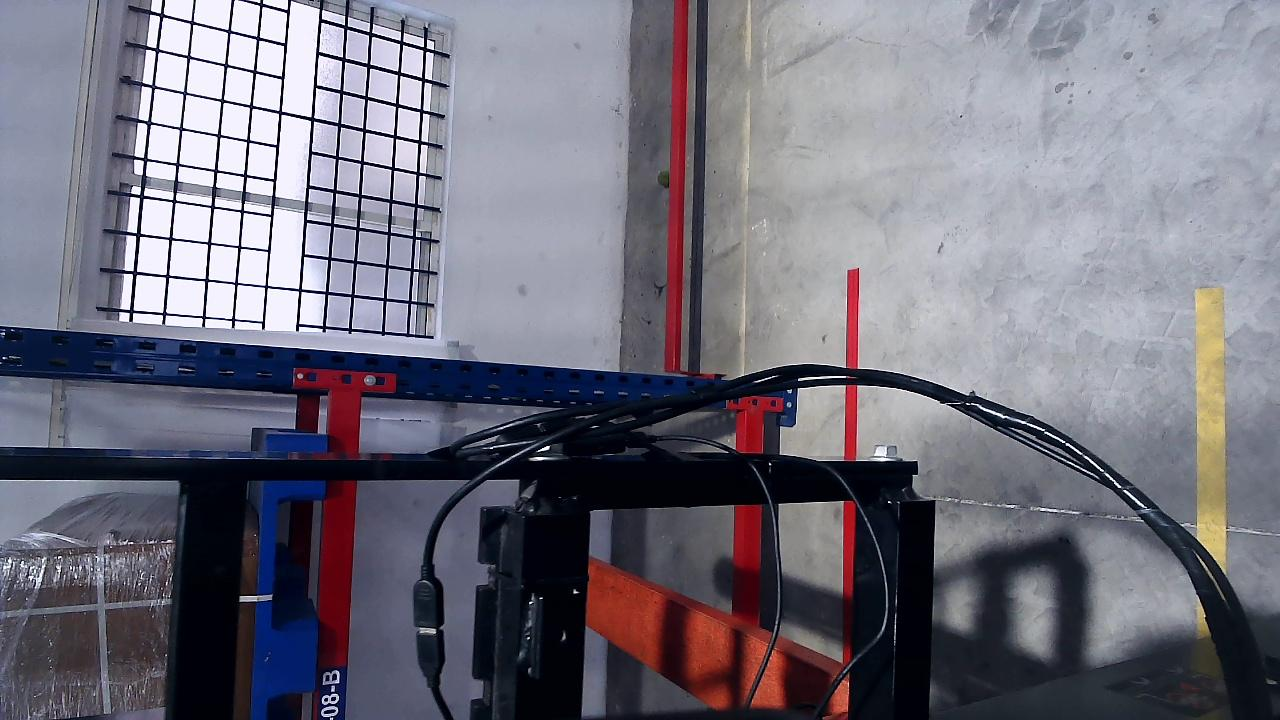h_rack: (313, 388, 368, 719)
red_line: (844, 268, 858, 623)
yellow_line: (1195, 285, 1227, 719)
